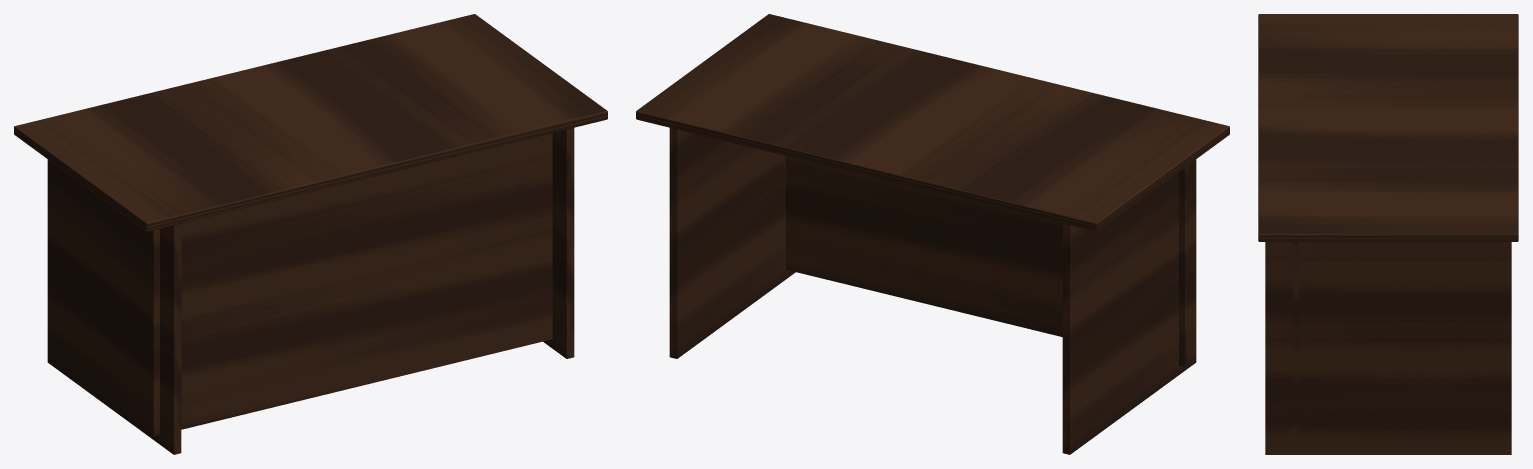
The model's file is desk_3_panelend.fbx.
The picture shows the model from 3 angles, left to right: view 1: azimuth 30°, elevation 25°; view 2: azimuth 150°, elevation 25°; view 3: azimuth 270°, elevation 25°; orthographic projection. The views are drawn at different scales.
Visible parts, largest first — view 1: modesty, top, panel1, panel-1; view 2: top, modesty, panel1, panel-1; view 3: top, panel-1, modesty.
Boxes of the visible parts, <box> form: modesty: <box>150,133,552,436</box>; top: <box>14,14,607,231</box>; panel1: <box>47,159,181,454</box>; panel-1: <box>543,128,574,358</box>; top: <box>636,14,1229,231</box>; modesty: <box>786,156,1188,366</box>; panel1: <box>1062,159,1196,454</box>; panel-1: <box>669,128,795,358</box>; top: <box>1258,14,1518,241</box>; panel-1: <box>1265,242,1511,454</box>; modesty: <box>1292,242,1298,448</box>.
Bounding box in the file's own units: 150 × 75 × 75.
1 material, 1 textured.
